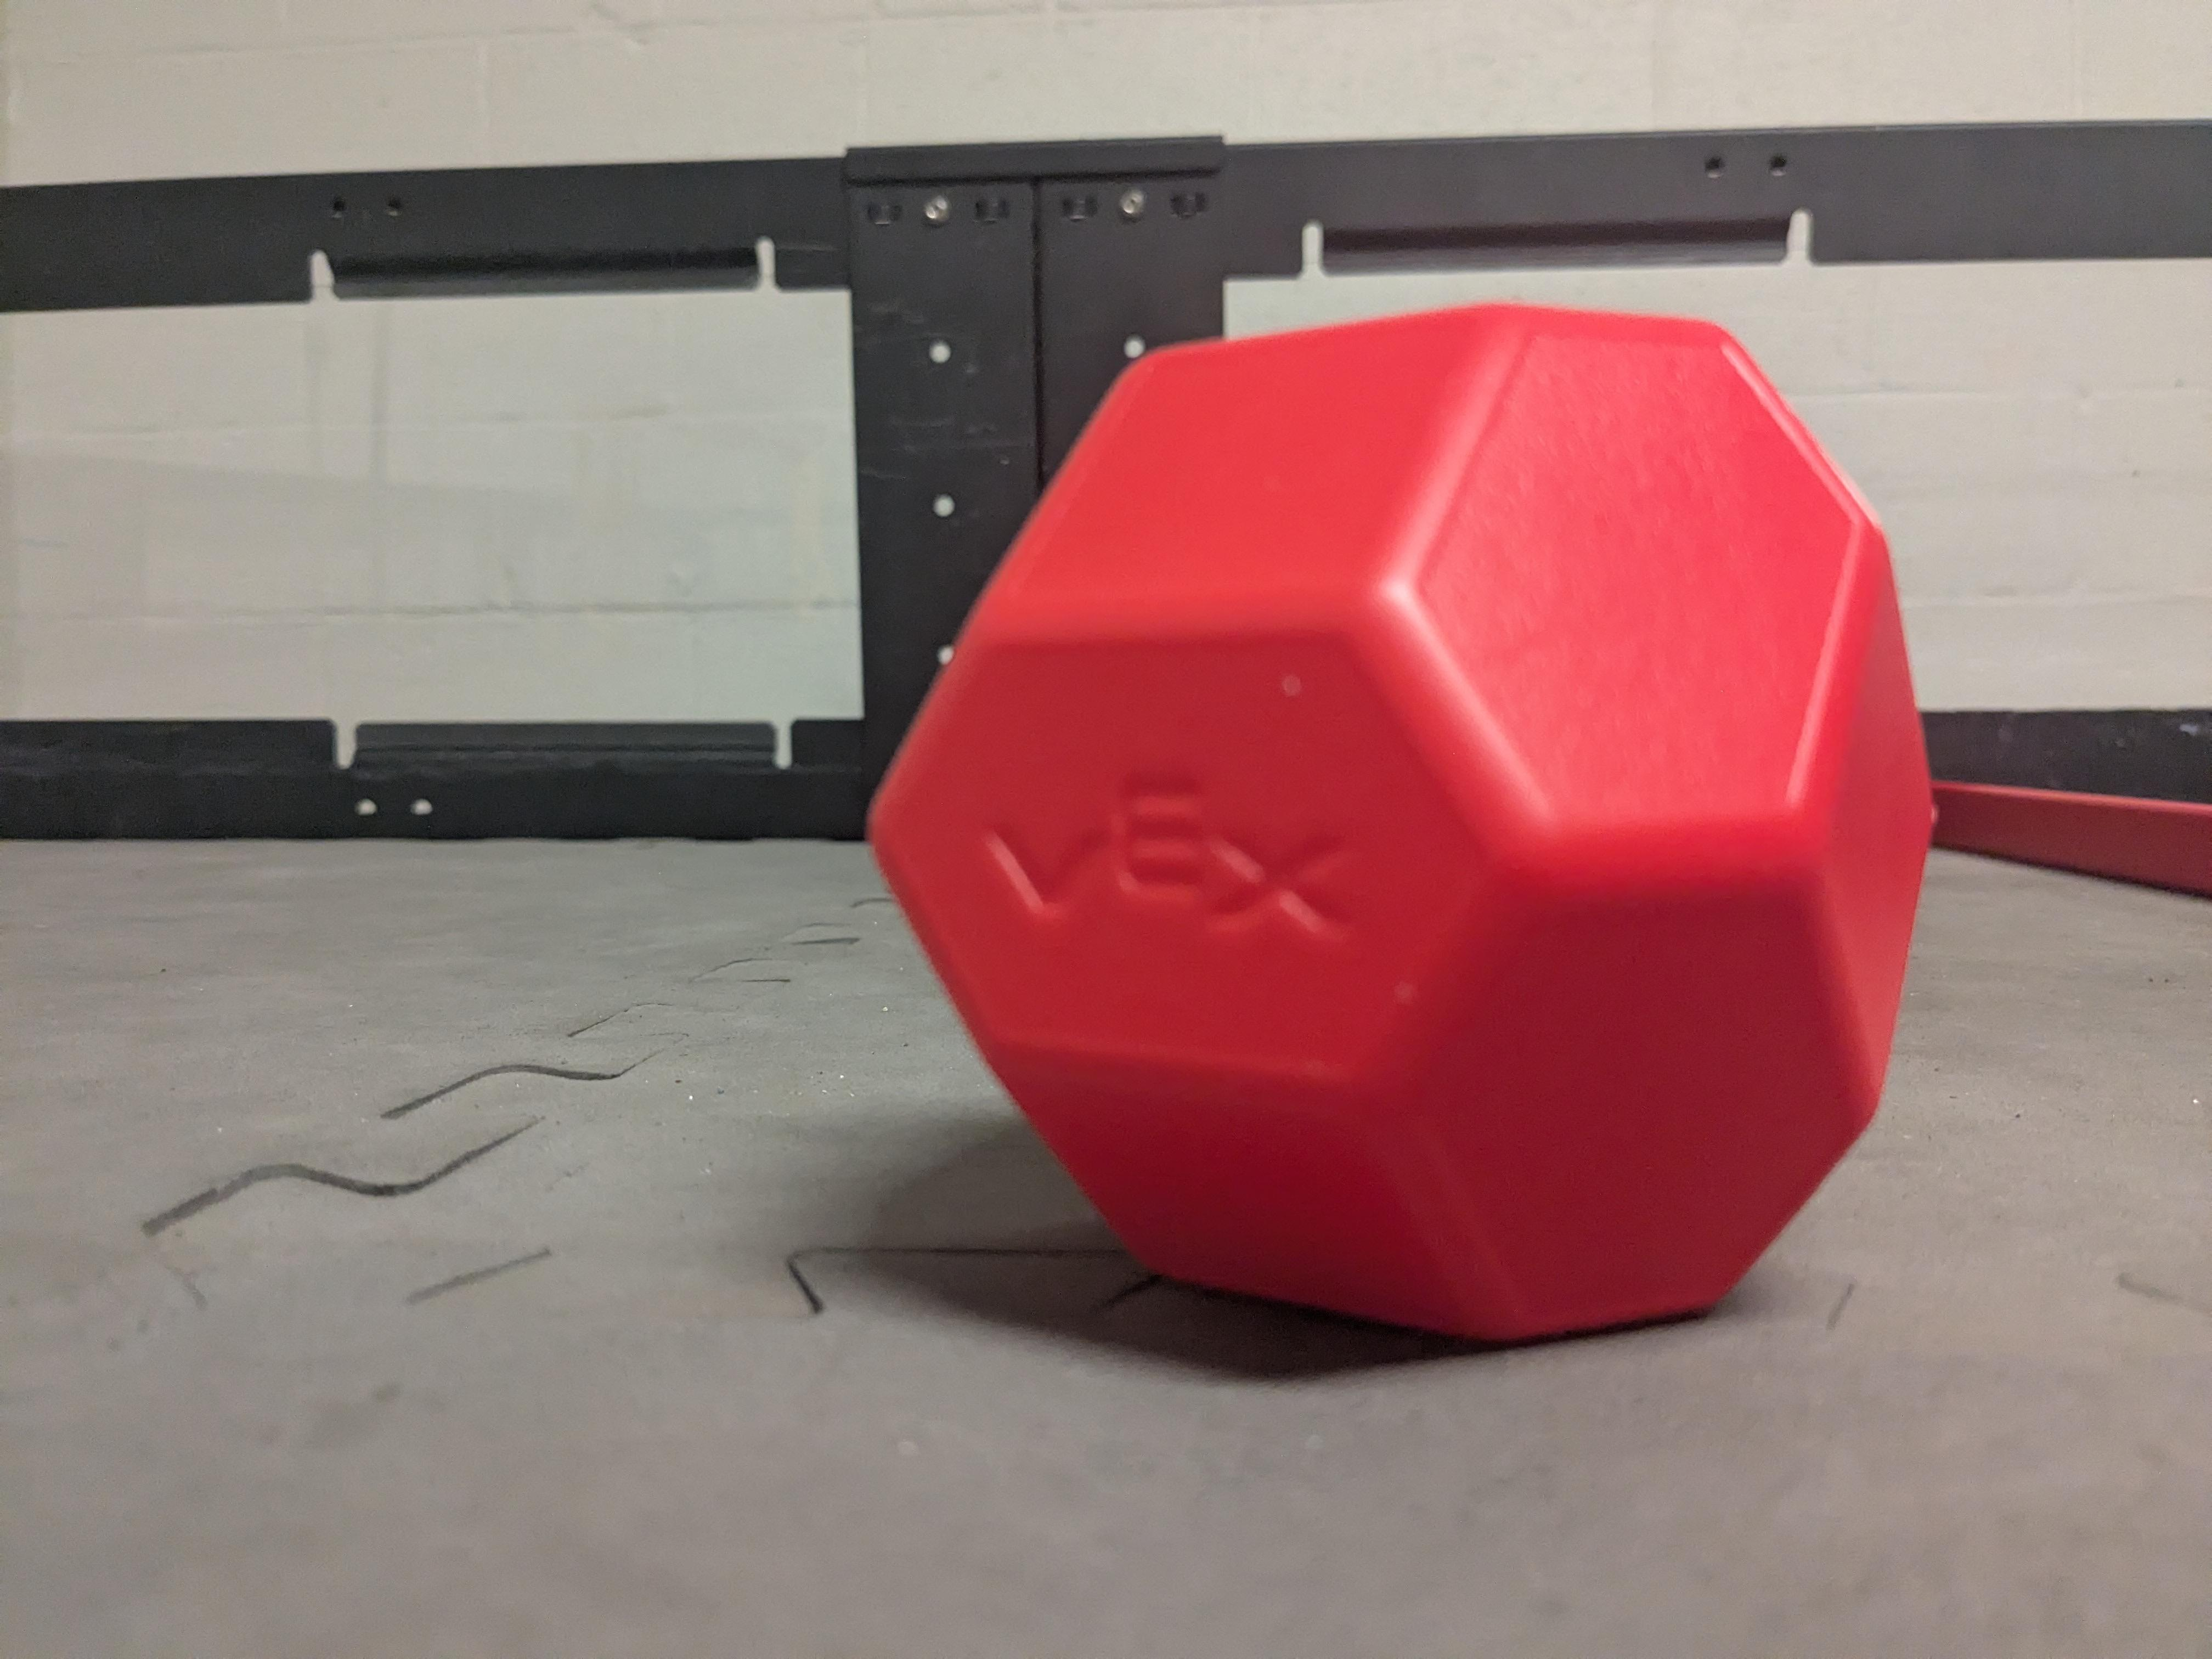Vex-Pieces-RED: (871, 305, 1932, 1338)
